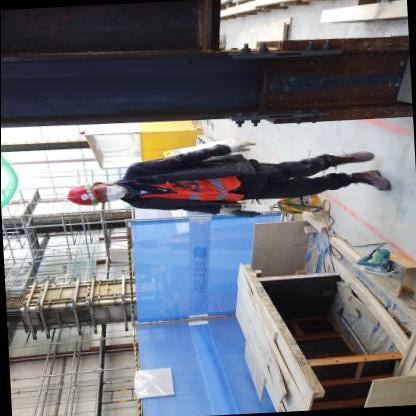safety-shoe: (346, 167, 395, 194), (326, 146, 379, 167)
